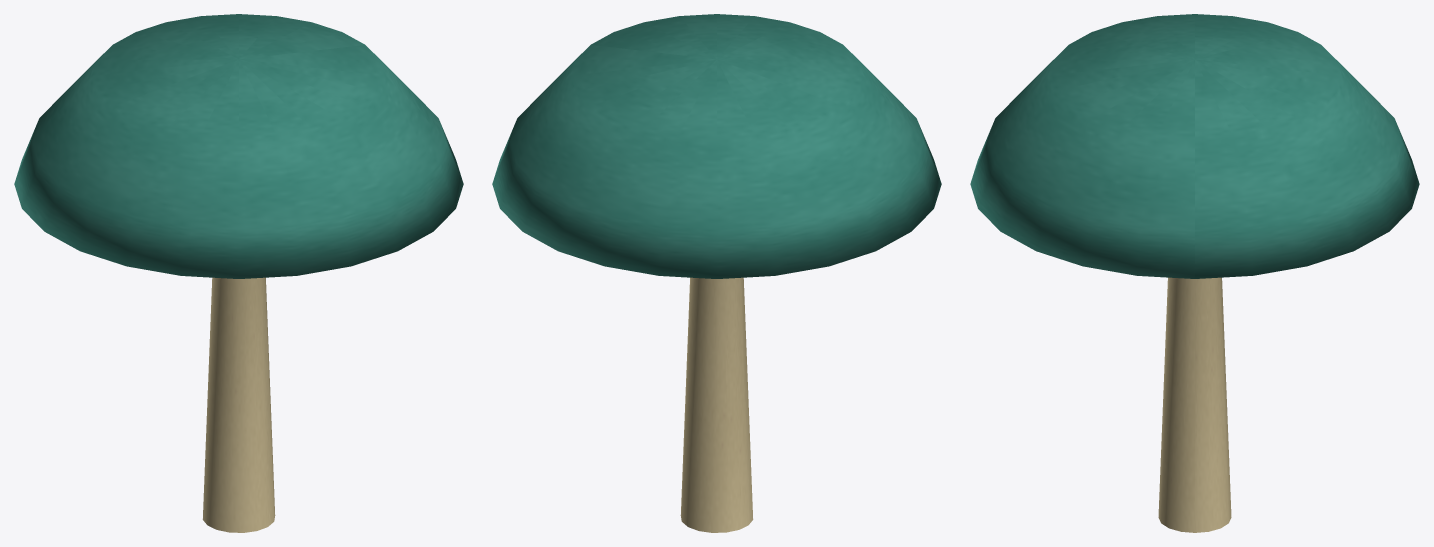
Rendered from giant_mushroom.glb.
3 renders of one model, left to right at view 1: azimuth 30°, elevation 25°; view 2: azimuth 150°, elevation 25°; view 3: azimuth 270°, elevation 25°, orthographic.
Visible parts, largest first — view 1: giant_mushroom; view 2: giant_mushroom; view 3: giant_mushroom.
Boxes of the visible parts, bbox=[...] form: giant_mushroom: bbox=[14, 14, 463, 532]; giant_mushroom: bbox=[492, 14, 941, 532]; giant_mushroom: bbox=[970, 14, 1419, 532].
Size of the model in its own units: 1.6 by 1.8 by 1.6.
3 materials, 3 textured.
